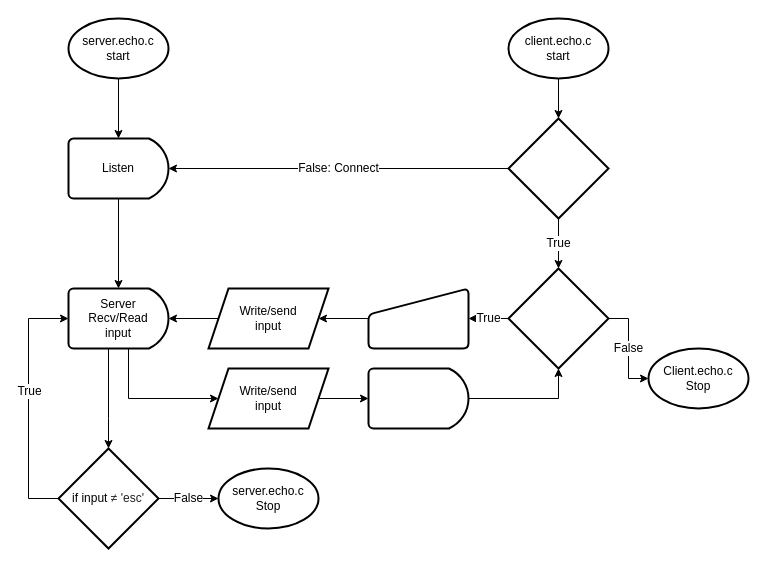
Some shapes in this 767 by 566 pixel diagram are drawn without their labels. The box of each missing label's shape, as (x1, y1, x2, y2) in pixels:
Client Recv/Read input: (367, 367, 469, 429)
Connected: (507, 117, 609, 219)
User input: (367, 287, 469, 349)
While Recv/Read ≠ esc: (507, 267, 609, 369)
